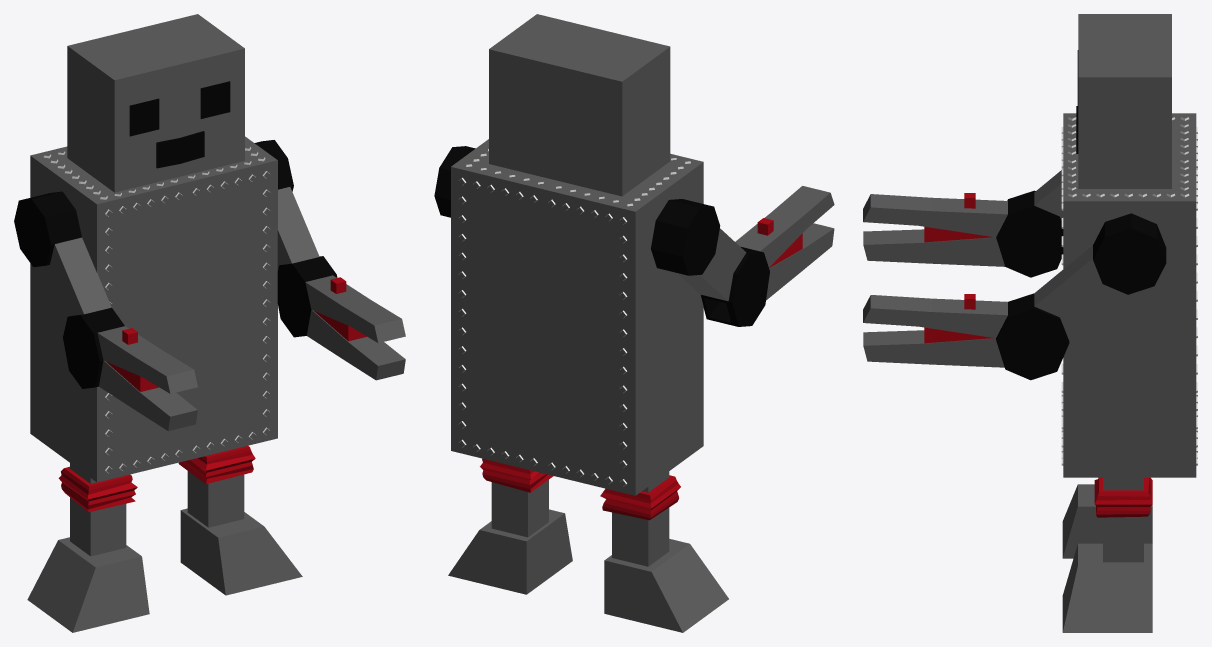
Rendered from R-Buriki.fbx.
3 renders of one model, left to right at view 1: azimuth 30°, elevation 25°; view 2: azimuth 150°, elevation 25°; view 3: azimuth 270°, elevation 25°, orthographic. The views are drawn at different scales.
Visible parts, largest first — view 1: Buriki, Turret; view 2: Buriki, Turret; view 3: Buriki, Turret.
Part boxes in pixels (bbox=[...]): Buriki: bbox=[27, 14, 302, 632]; Turret: bbox=[14, 140, 405, 430]; Buriki: bbox=[448, 14, 728, 632]; Turret: bbox=[434, 146, 834, 326]; Buriki: bbox=[1061, 14, 1197, 632]; Turret: bbox=[863, 170, 1166, 380].
Bounding box in the file's own units: 47.57 × 100 × 57.1.
